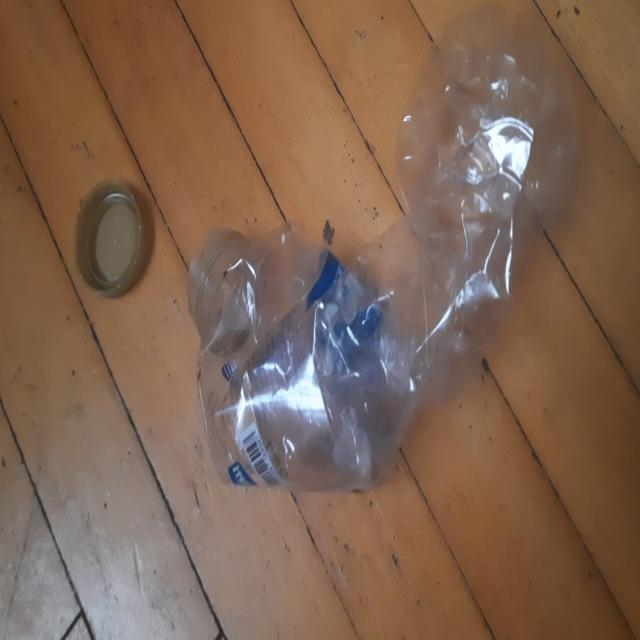Plastic: (196, 6, 574, 493)
